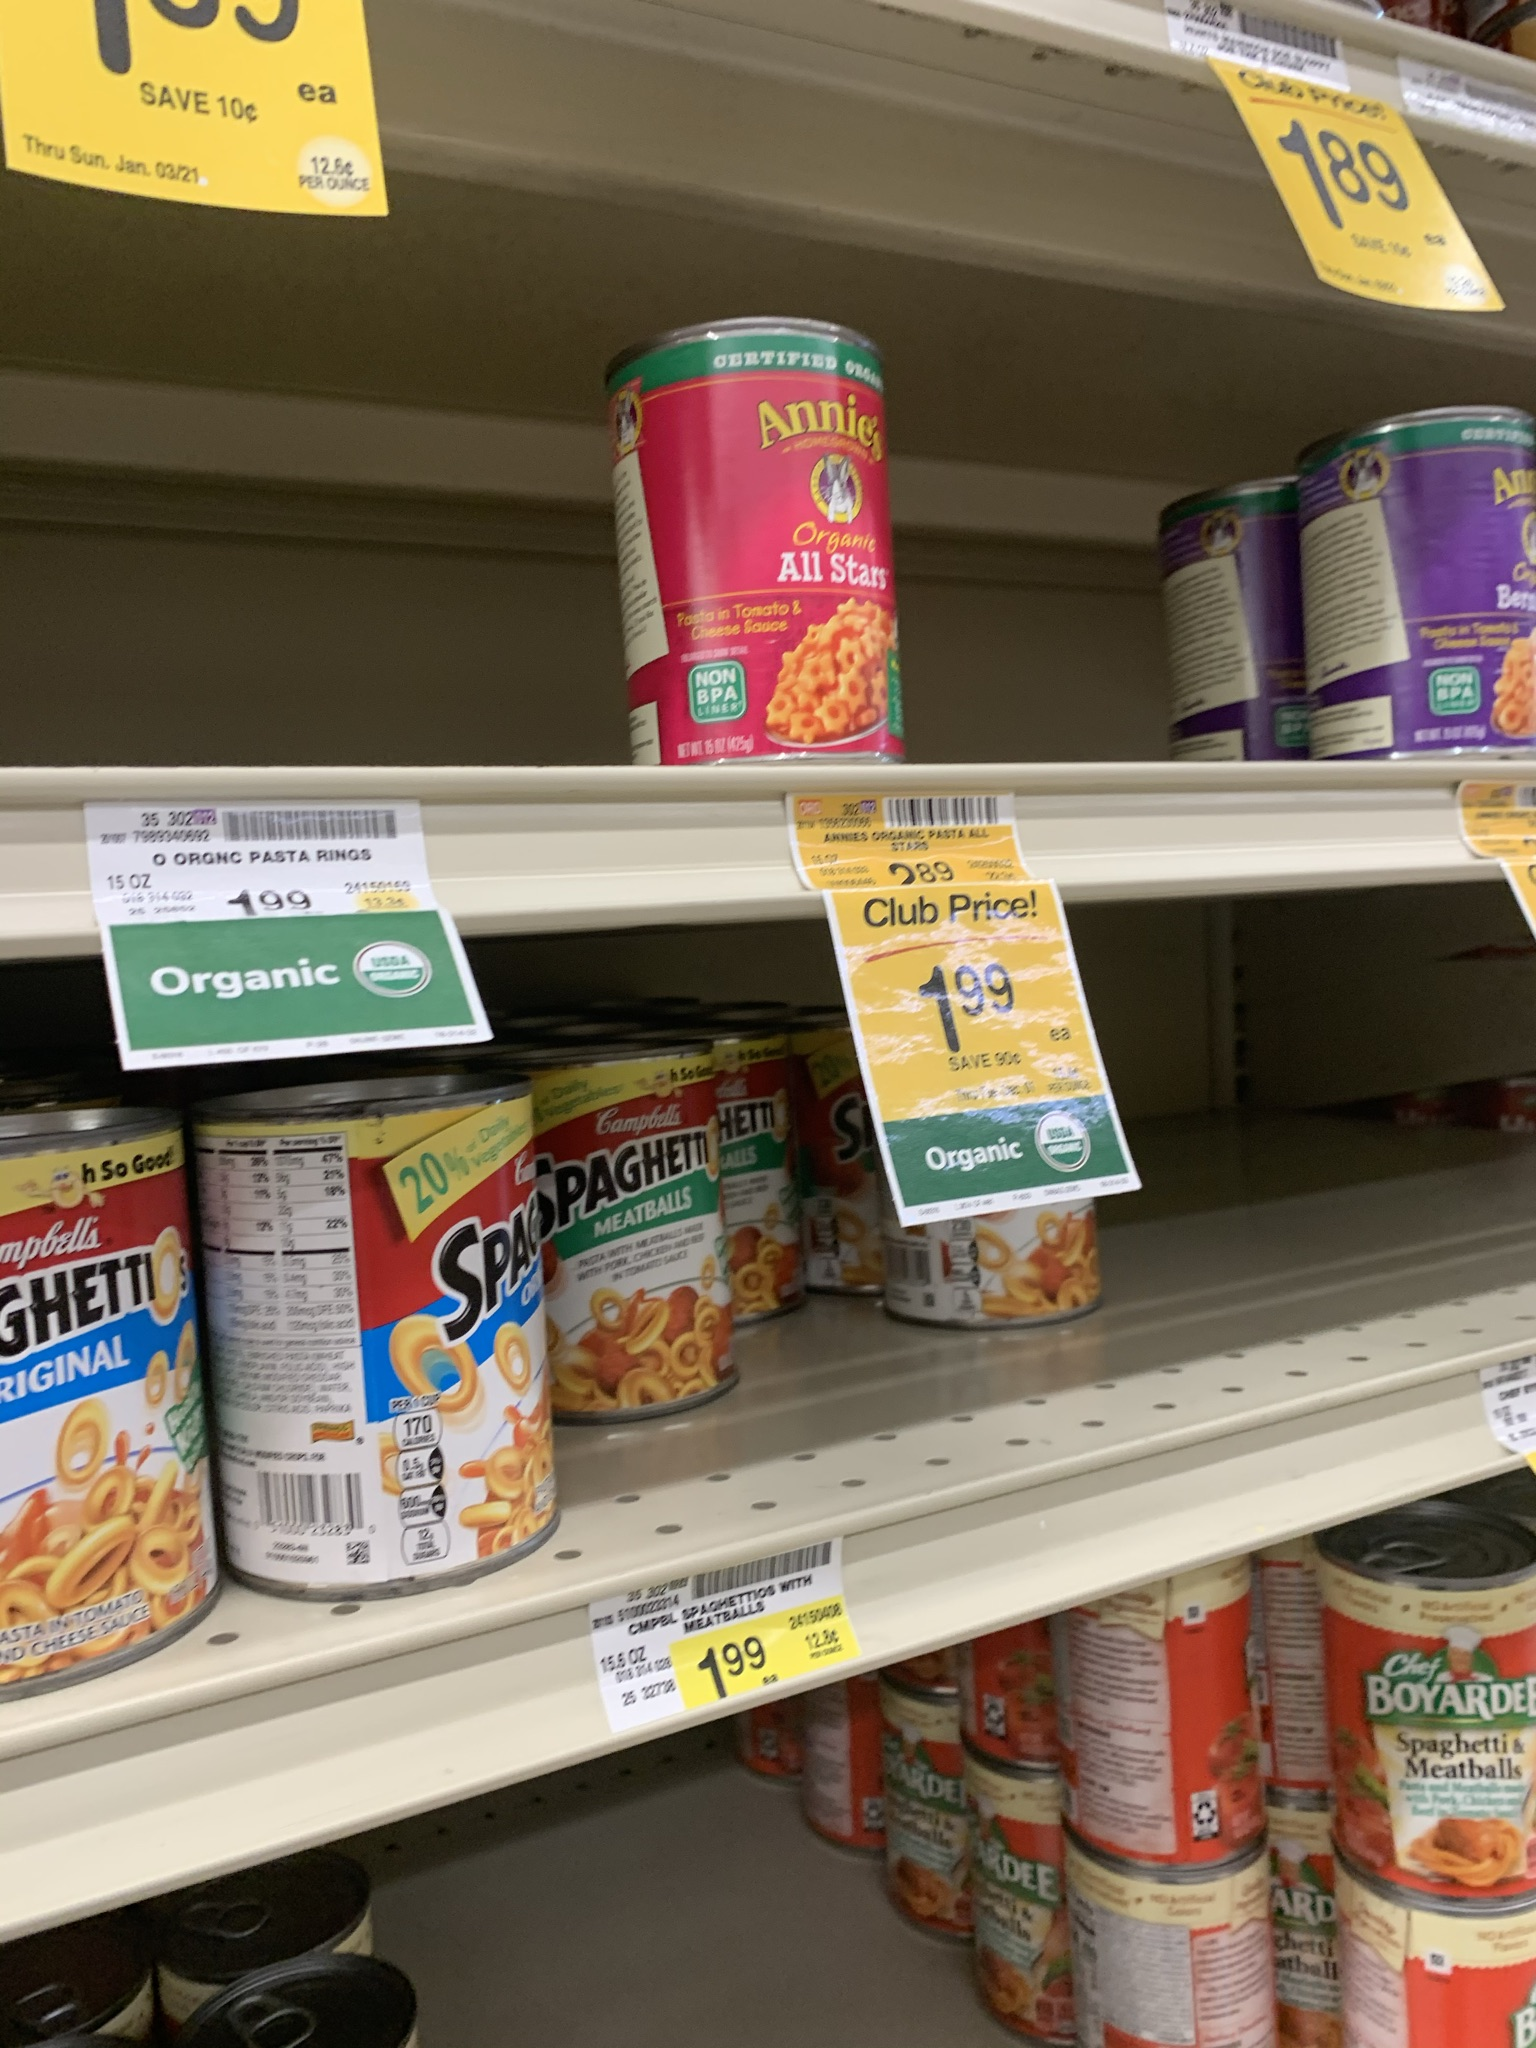can: (244, 1100, 534, 1555), (616, 318, 904, 768), (1299, 410, 1536, 768), (1325, 1550, 1536, 1916), (542, 1048, 741, 1421), (2, 1185, 153, 1642), (1099, 1621, 1252, 1850), (1092, 1875, 1260, 2042)
